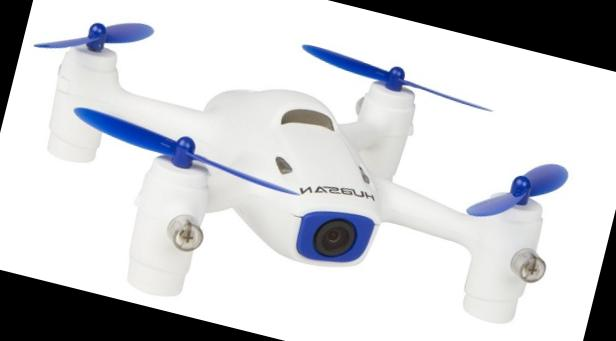drone: (0, 0, 610, 341)
